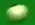white: (0, 0, 35, 25)
